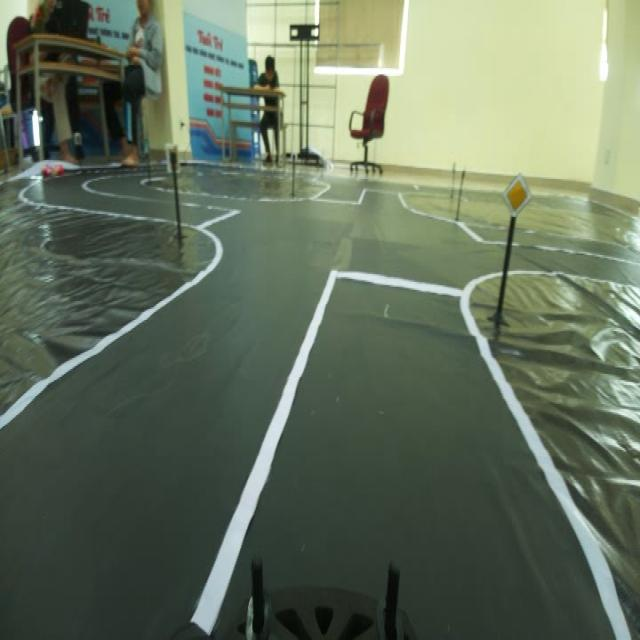priority: (501, 166, 535, 226)
